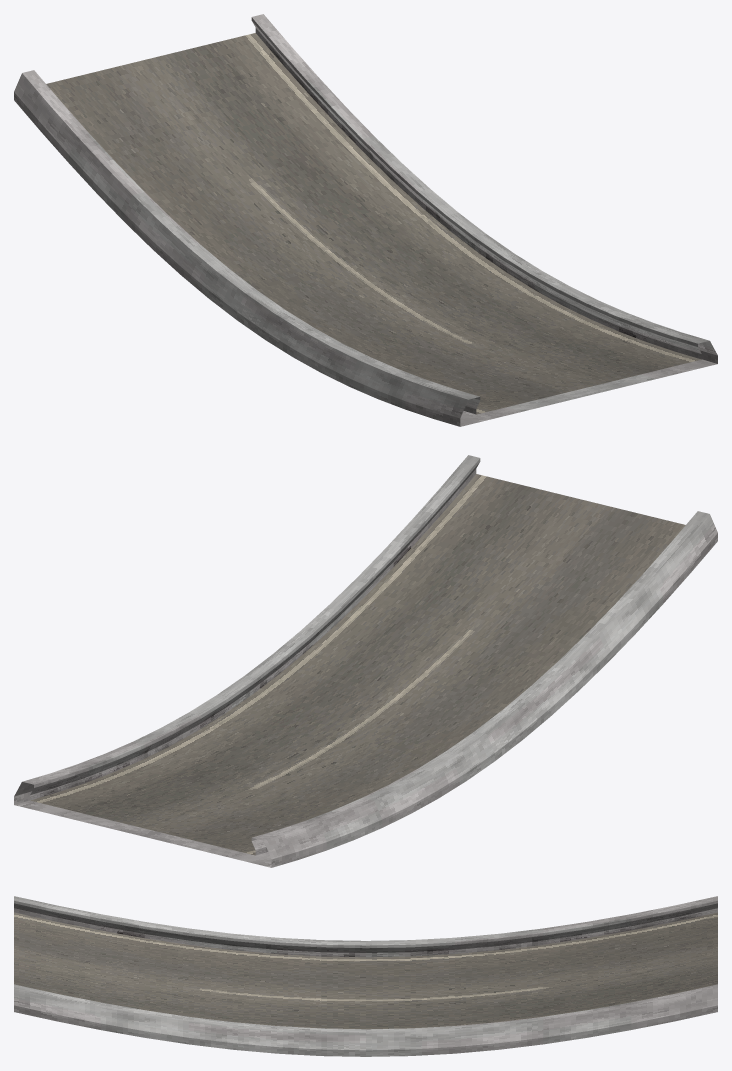
The model's file is straight3.glb.
3 views of the same model, one above another, from view 1: azimuth 30°, elevation 25°; view 2: azimuth 150°, elevation 25°; view 3: azimuth 270°, elevation 25° (orthographic). The views are drawn at different scales.
Visible parts, largest first — view 1: road-Straight-BiSlopeDown-BiSlopeUp-Even-Center-Size3; view 2: road-Straight-BiSlopeDown-BiSlopeUp-Even-Center-Size3; view 3: road-Straight-BiSlopeDown-BiSlopeUp-Even-Center-Size3.
Part boxes in pixels (box(x1,y1,x2,y2)): road-Straight-BiSlopeDown-BiSlopeUp-Even-Center-Size3: box(14, 14, 717, 426); road-Straight-BiSlopeDown-BiSlopeUp-Even-Center-Size3: box(14, 455, 717, 867); road-Straight-BiSlopeDown-BiSlopeUp-Even-Center-Size3: box(14, 896, 717, 1056).
Bounding box in the file's own units: 1 × 0.3047 × 3.
2 materials, 2 textured.
